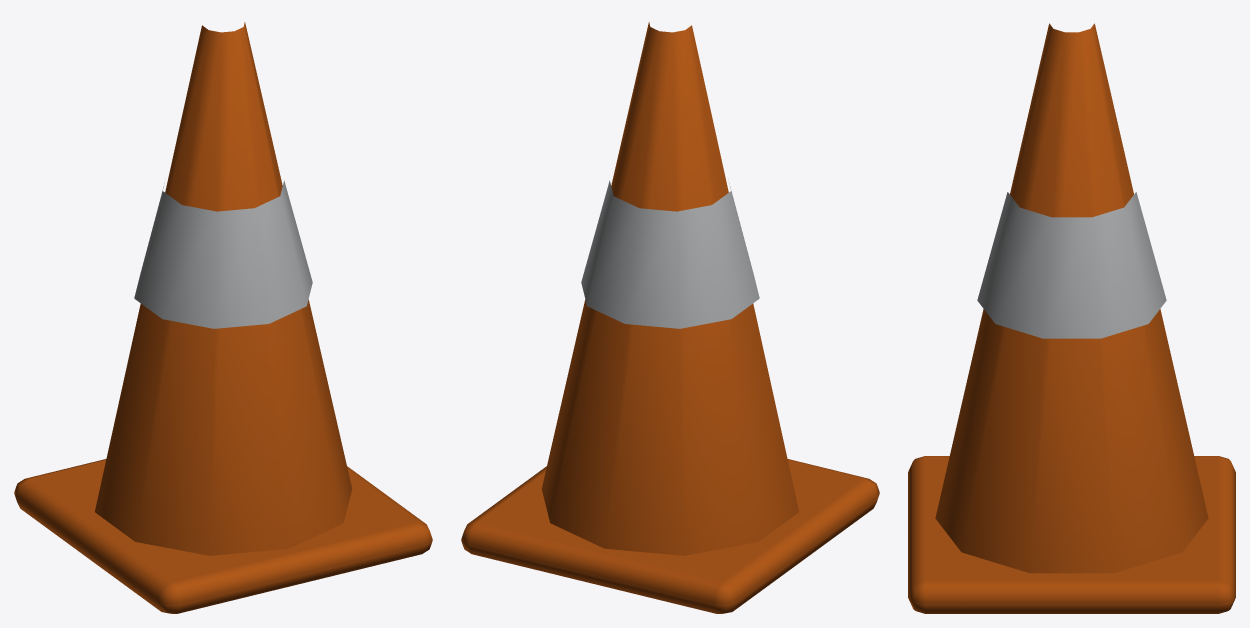
The picture shows the model from 3 angles, left to right: view 1: azimuth 30°, elevation 25°; view 2: azimuth 150°, elevation 25°; view 3: azimuth 270°, elevation 25°; orthographic projection. The views are drawn at different scales.
Parts seen in each view (by area): view 1: cone_liso; view 2: cone_liso; view 3: cone_liso.
Part boxes in pixels (x1=…): cone_liso: x1=14, y1=22, x2=432, y2=613; cone_liso: x1=461, y1=22, x2=879, y2=613; cone_liso: x1=908, y1=23, x2=1235, y2=613.
Size of the model in its own units: 0.36 by 0.64 by 0.36.
